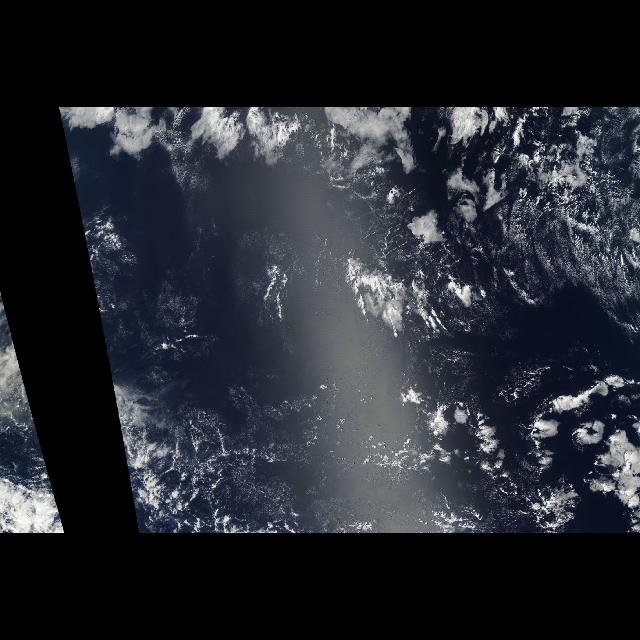Gravel: (136, 400, 296, 530)
Sugar: (185, 361, 349, 514), (515, 195, 639, 328)
